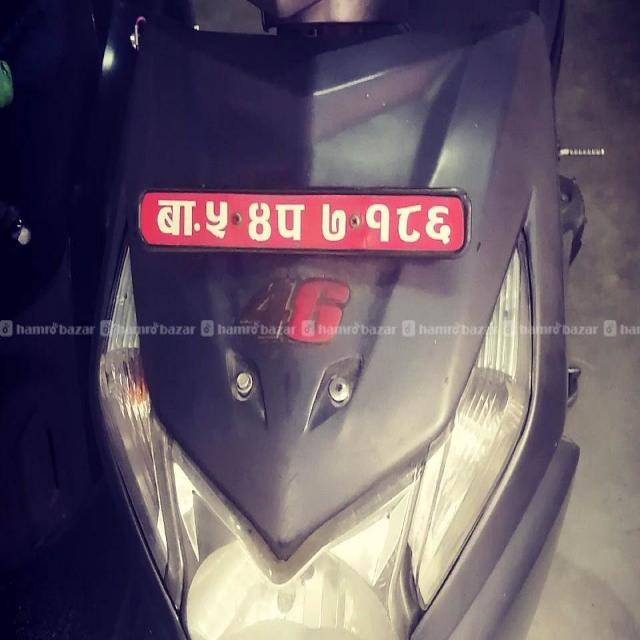License-plate: (128, 182, 481, 262)
